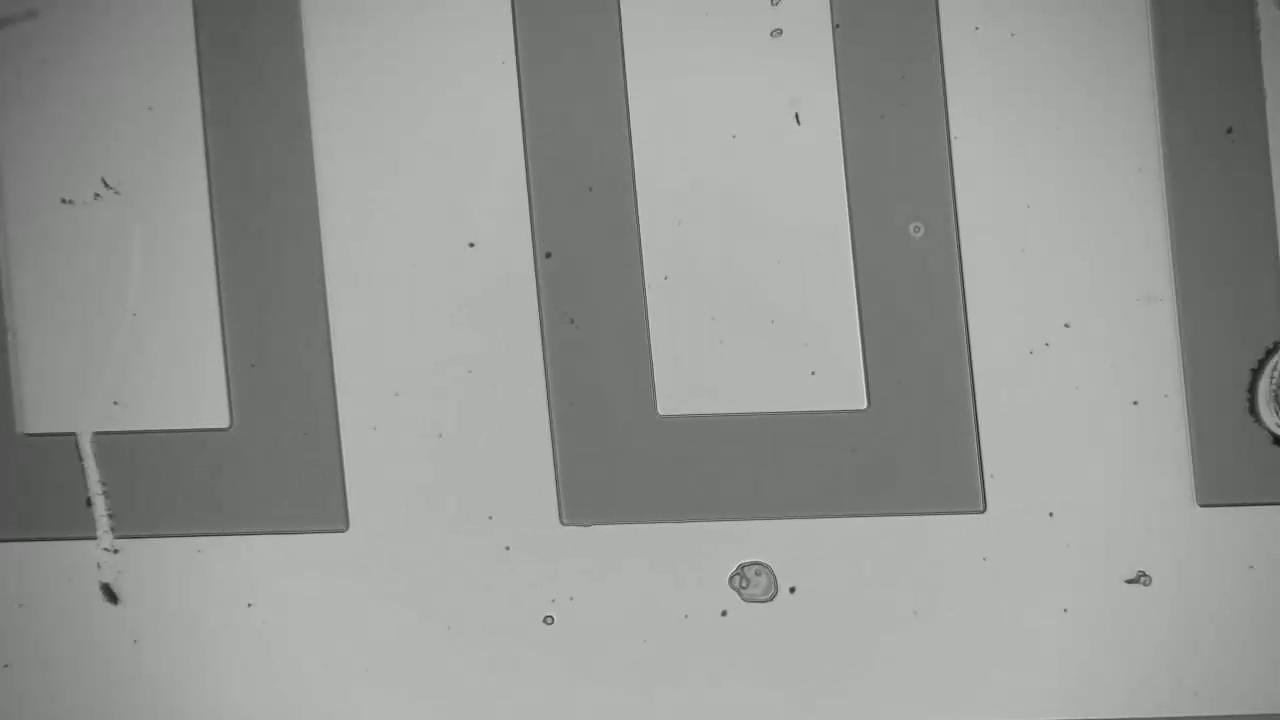Short_circuit: (56, 417, 151, 566)
